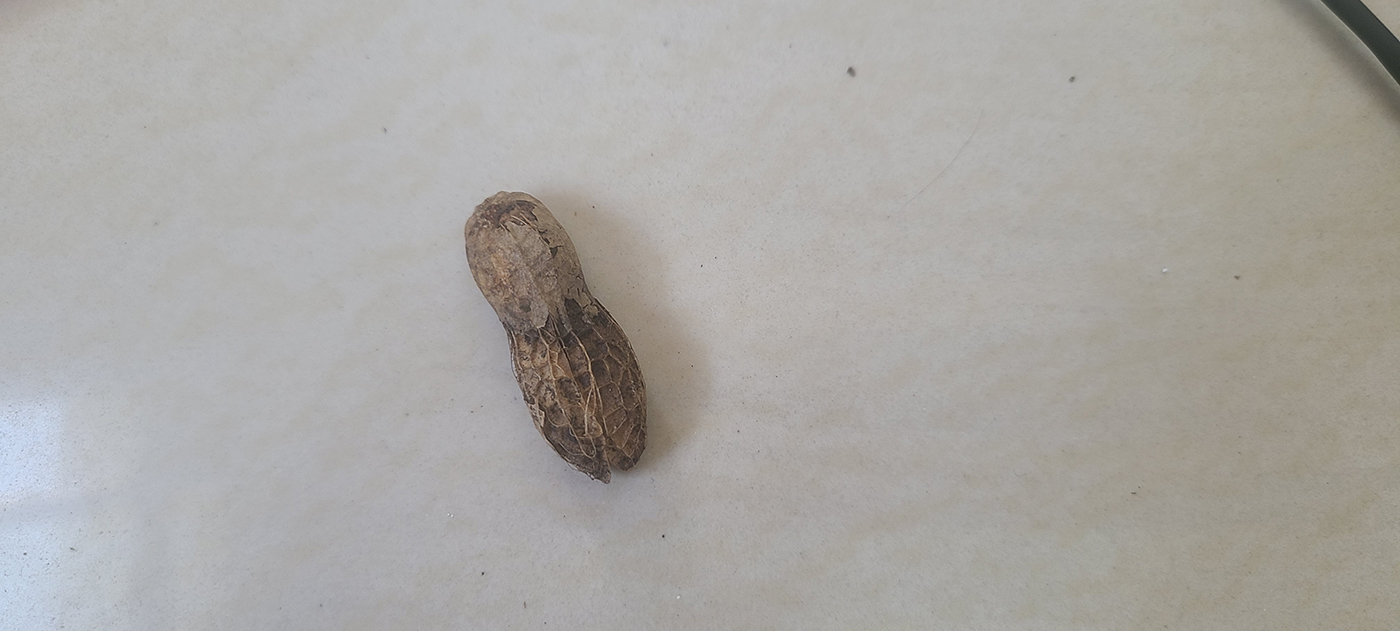l: (462, 192, 650, 480)
